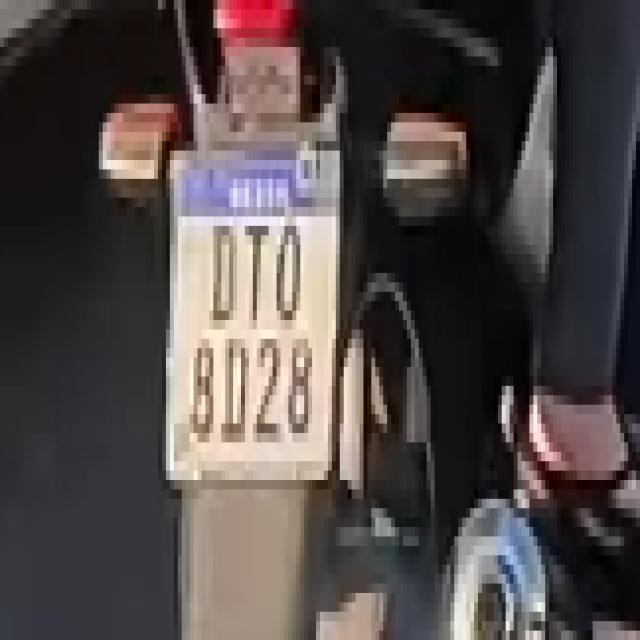Placa_mercosul_carro: (168, 153, 340, 493)
